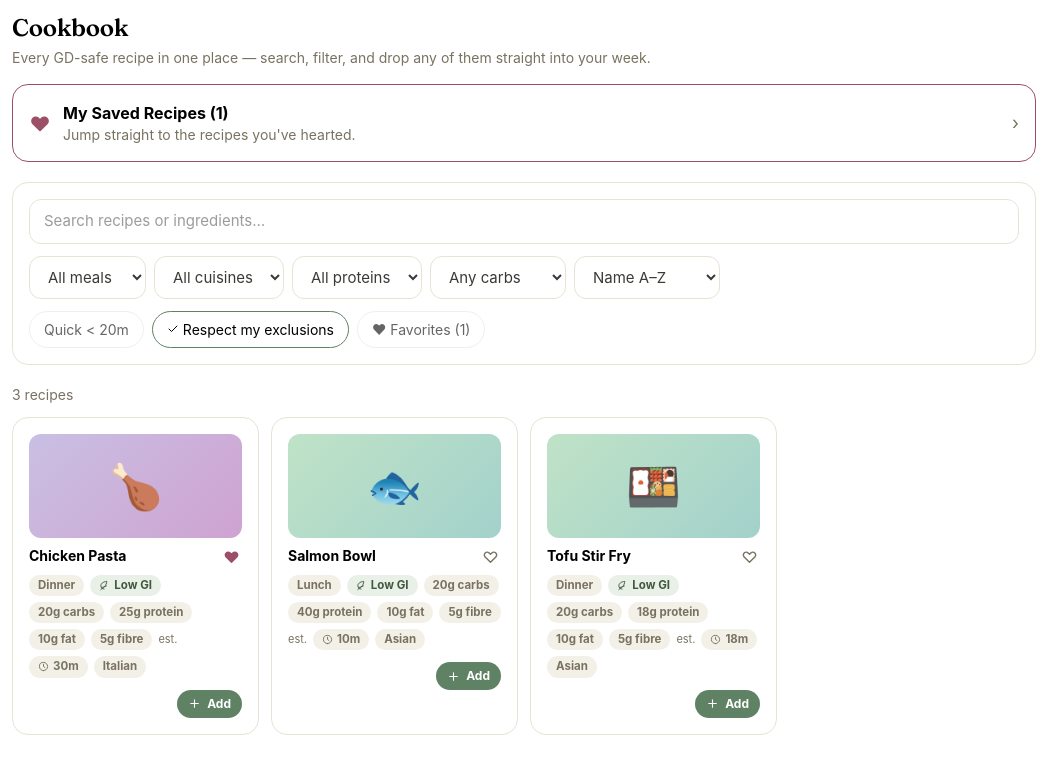
Scenario: CookbookTab › offers a Saved Recipes quick-link that filters to favorites
Step 1. Click the button with aria-label "Show my 1 saved recipe" → (139, 113), box [12,84,1036,162]
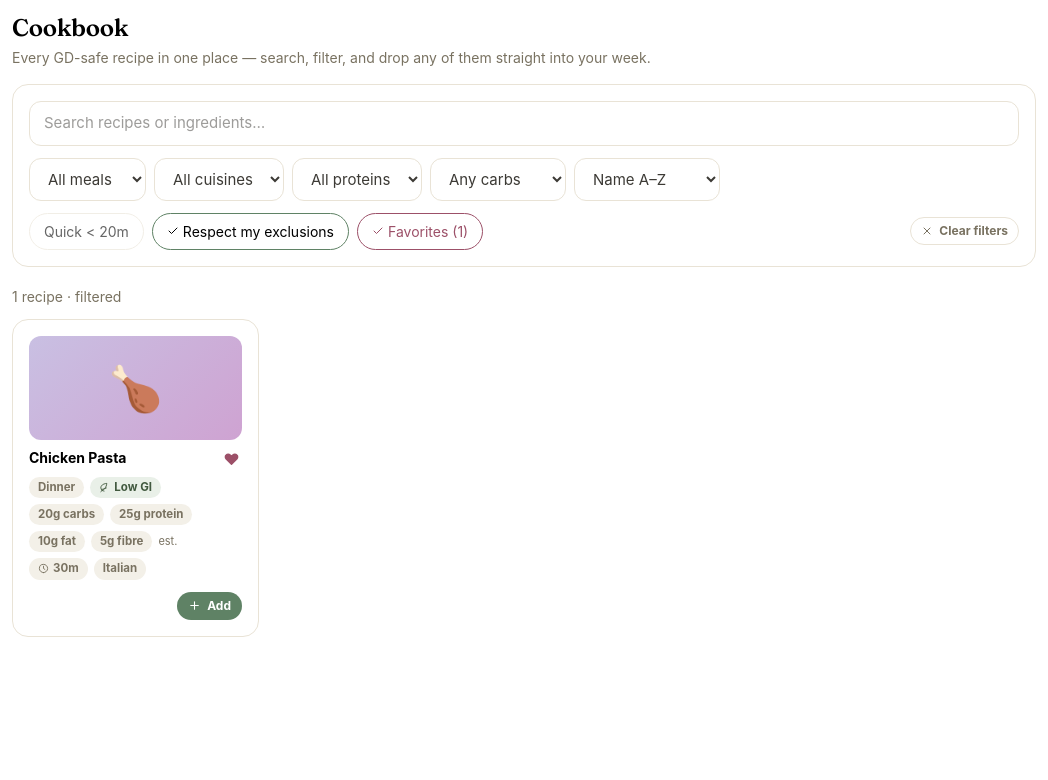
Expected: the text "Chicken Pasta" is shown, [29,448,126,467]
Expected: the text "1 recipe · filtered" is shown, [12,288,121,304]
Expected: the button "Saved Recipe" is gone
